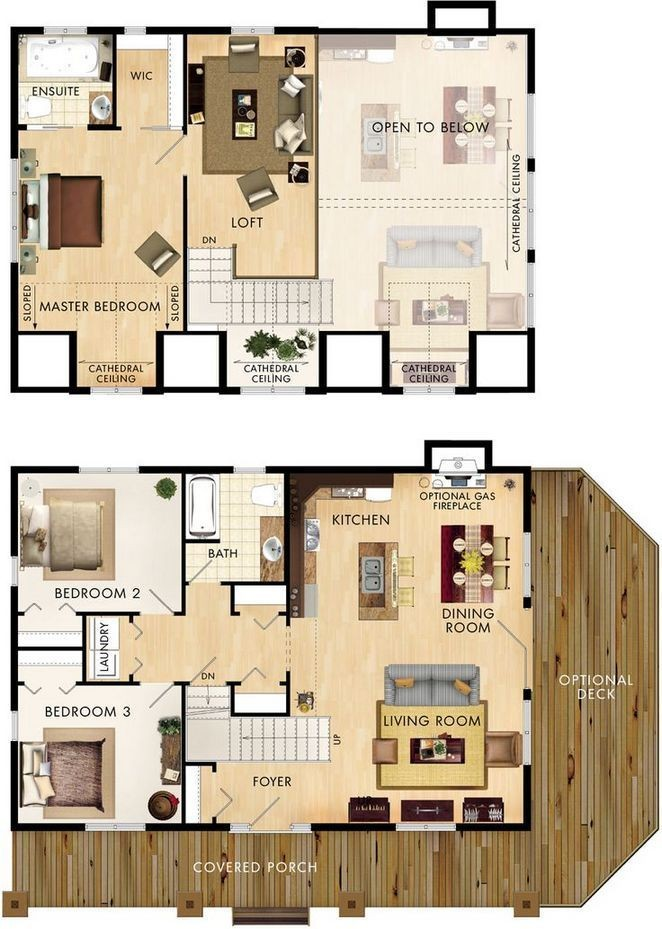room: (180, 24, 539, 337), (178, 682, 535, 832), (6, 124, 189, 395), (282, 461, 534, 639), (7, 463, 186, 618), (7, 679, 186, 834), (179, 462, 289, 588), (9, 23, 120, 133), (112, 22, 189, 133)
window: (237, 383, 306, 397), (87, 383, 143, 396)
